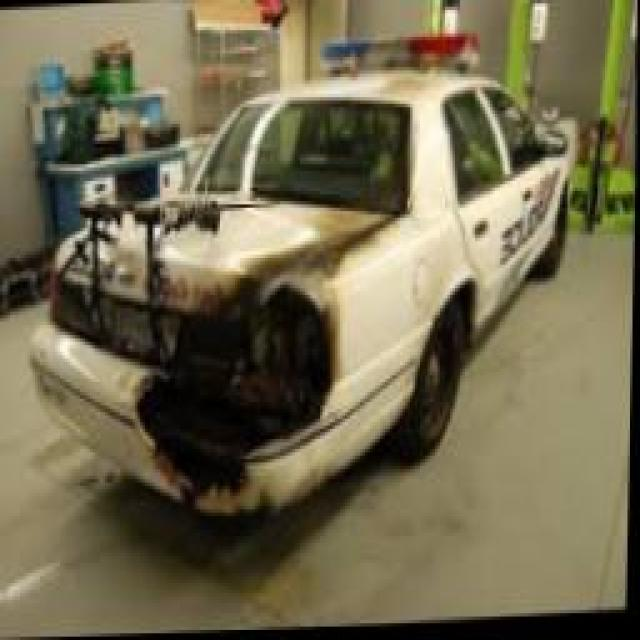Bumper: (129, 365, 319, 491)
Dickey: (164, 193, 390, 300)
Light: (220, 279, 342, 411)
